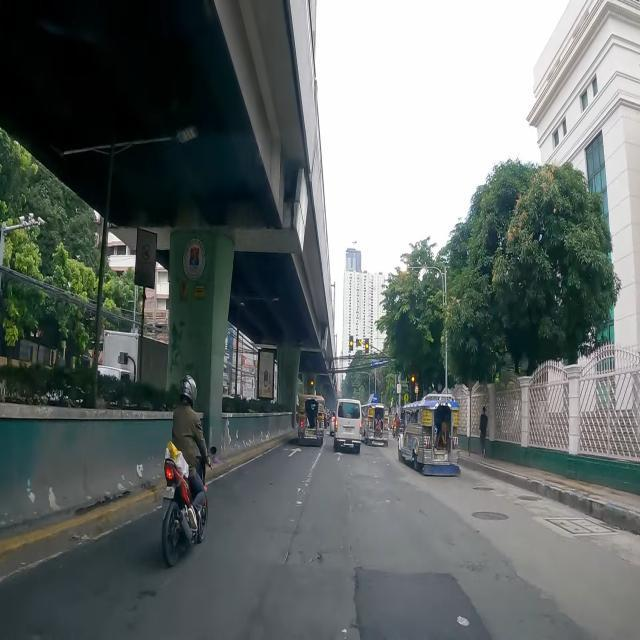car: (333, 400, 362, 453)
jeepney: (398, 393, 459, 476), (298, 394, 325, 446), (361, 402, 389, 447)
motorcycle: (158, 372, 217, 565)
truck: (93, 330, 168, 388)
